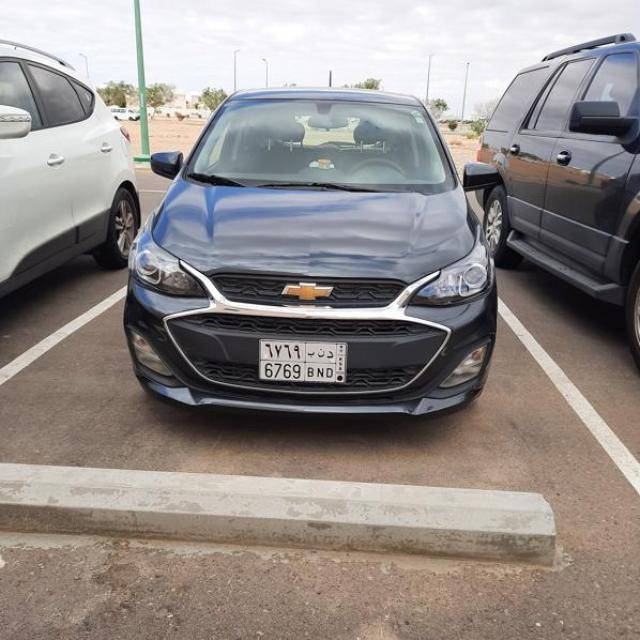license_plate: (258, 341, 346, 381)
